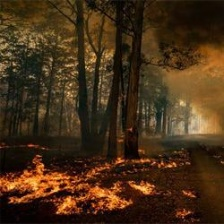fire: (2, 152, 167, 213)
